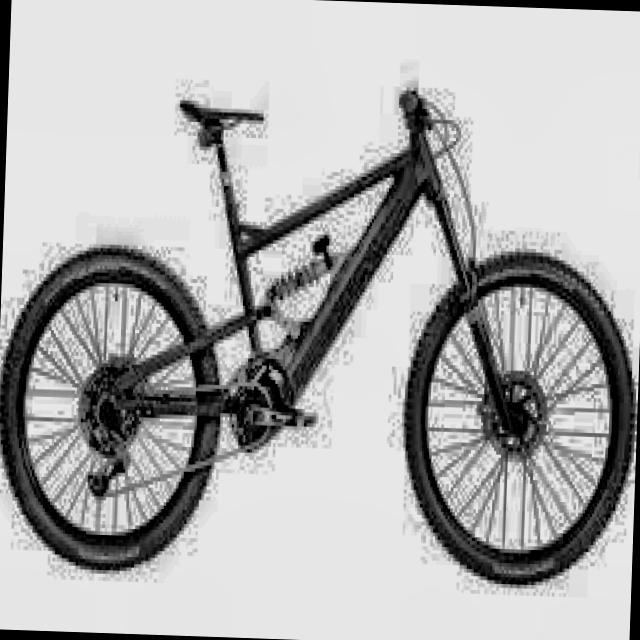bicycle: (0, 67, 640, 603)
